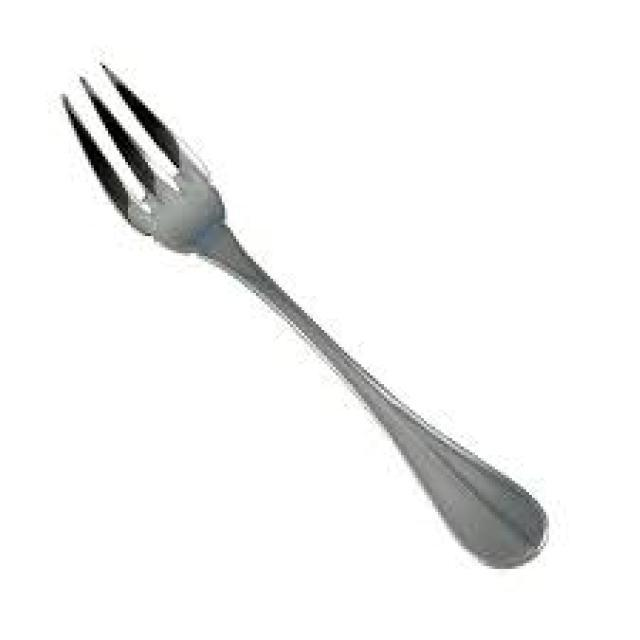Dry Waste: (52, 69, 569, 582)
